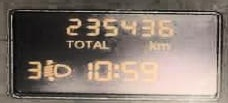0: (93, 58, 111, 81)
1: (84, 60, 93, 80)
2: (63, 16, 80, 35)
3: (24, 58, 41, 79), (139, 17, 154, 37), (83, 17, 98, 36)
4: (119, 19, 136, 35)
5: (119, 58, 138, 81), (101, 17, 118, 37)
6: (156, 18, 173, 37)
9: (138, 60, 157, 81)
X: (156, 41, 170, 50), (111, 63, 118, 79), (63, 37, 73, 48), (74, 38, 83, 49), (147, 39, 155, 51), (83, 39, 92, 48), (100, 39, 108, 48), (92, 39, 100, 48)
